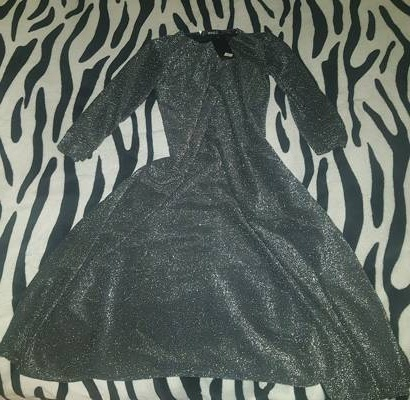Dress: (2, 18, 401, 391)
